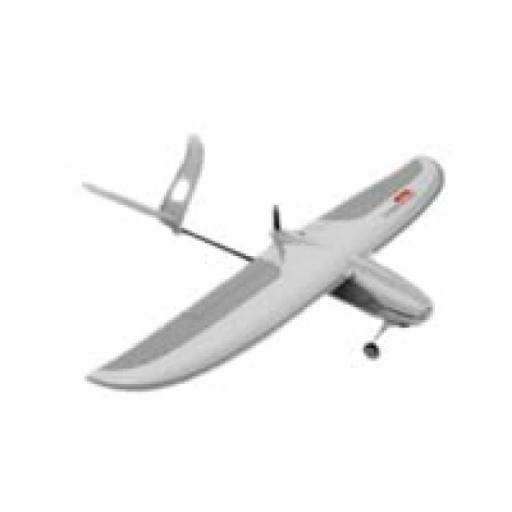uav: (74, 130, 456, 394)
